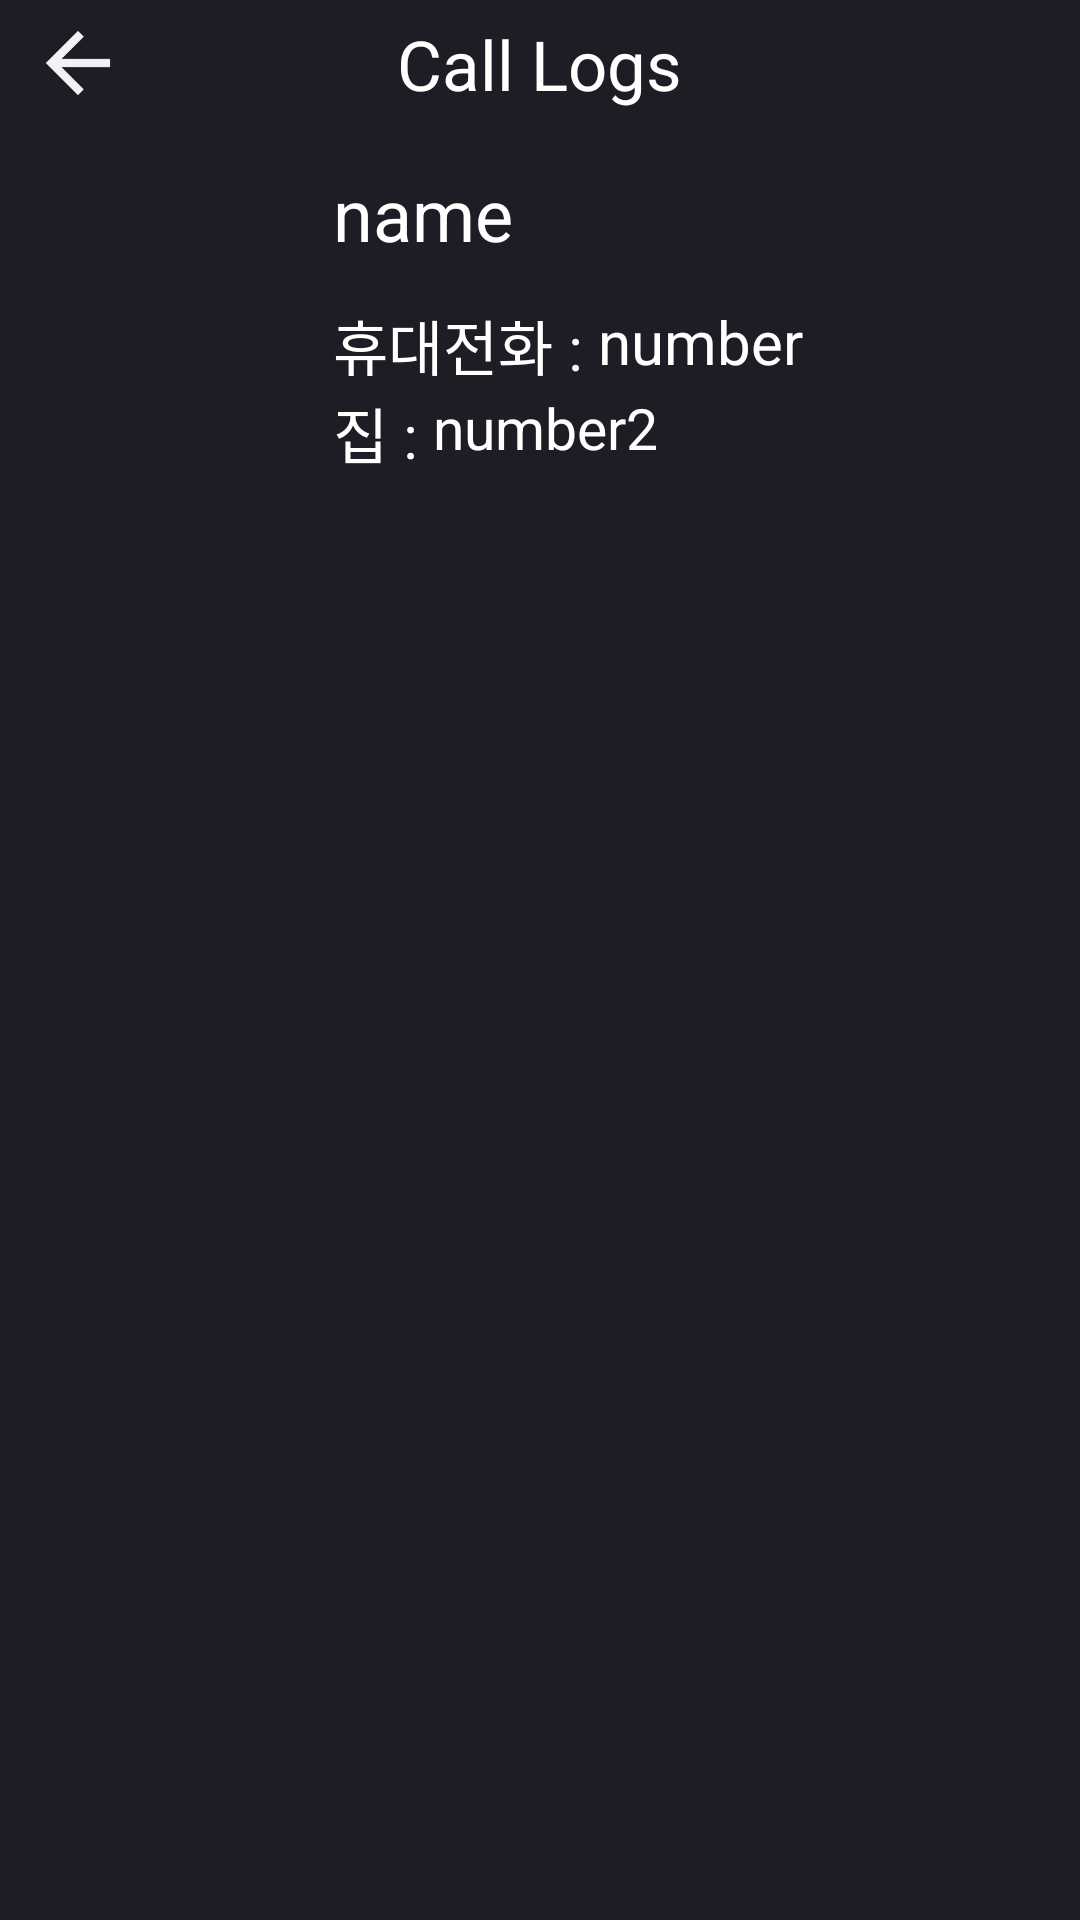

Screen size 1080 x 1920. Icon name, then its box in pixels as (left=x1, top=y1, right=x2, bottom=y2):
backarrow: (left=46, top=31, right=110, bottom=95)
